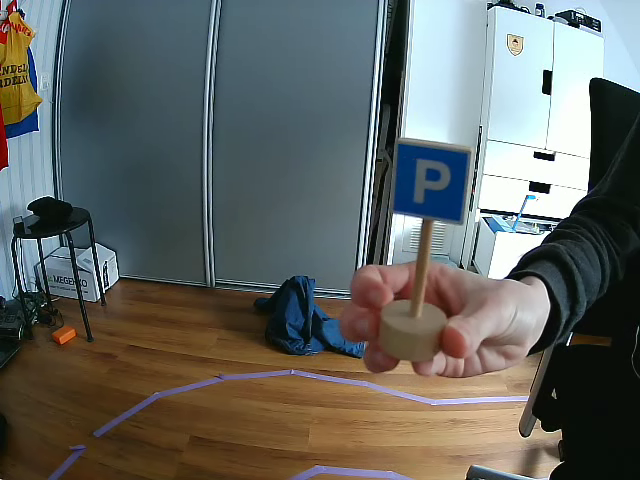parkeerbord: (393, 147, 472, 219)
